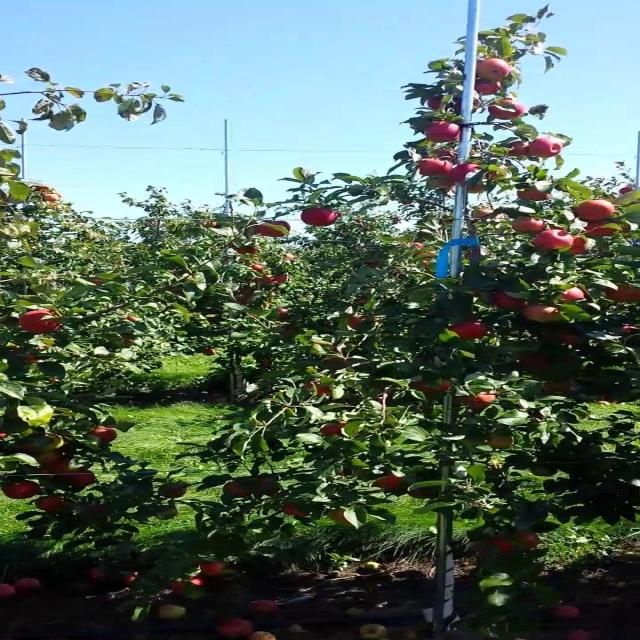apple: (20, 312, 64, 336), (575, 200, 619, 220), (532, 228, 569, 251), (476, 60, 514, 80), (454, 320, 491, 340), (525, 304, 562, 324), (305, 208, 341, 228), (426, 124, 462, 144), (490, 100, 526, 120), (511, 216, 548, 235), (255, 220, 292, 239), (447, 164, 484, 183), (490, 292, 528, 310), (170, 576, 206, 595), (461, 392, 498, 410), (604, 284, 639, 303), (412, 380, 455, 395), (376, 472, 407, 492), (532, 140, 564, 159), (198, 560, 233, 577), (6, 484, 43, 500), (35, 496, 69, 513), (476, 540, 514, 555), (490, 432, 519, 451), (540, 380, 576, 395), (419, 160, 452, 176), (156, 604, 187, 621), (518, 188, 553, 203), (255, 476, 281, 495), (518, 356, 553, 370), (454, 96, 484, 112), (92, 428, 121, 444), (476, 80, 505, 96), (305, 380, 334, 396), (582, 224, 617, 237), (568, 236, 590, 256), (518, 532, 542, 550), (561, 288, 588, 304), (163, 484, 190, 500), (70, 472, 100, 486), (284, 504, 311, 519), (49, 460, 76, 475), (333, 508, 352, 527), (227, 484, 251, 499), (561, 332, 585, 347), (511, 140, 532, 157), (319, 424, 348, 436), (84, 504, 110, 517), (120, 572, 142, 587), (35, 452, 62, 464), (412, 488, 437, 500), (426, 96, 446, 111), (490, 168, 512, 181), (234, 292, 256, 305), (433, 148, 457, 159), (426, 180, 455, 189), (348, 316, 368, 329), (461, 184, 487, 194), (476, 208, 494, 220), (234, 248, 261, 256), (326, 360, 348, 367), (625, 324, 639, 334), (28, 356, 41, 364)
